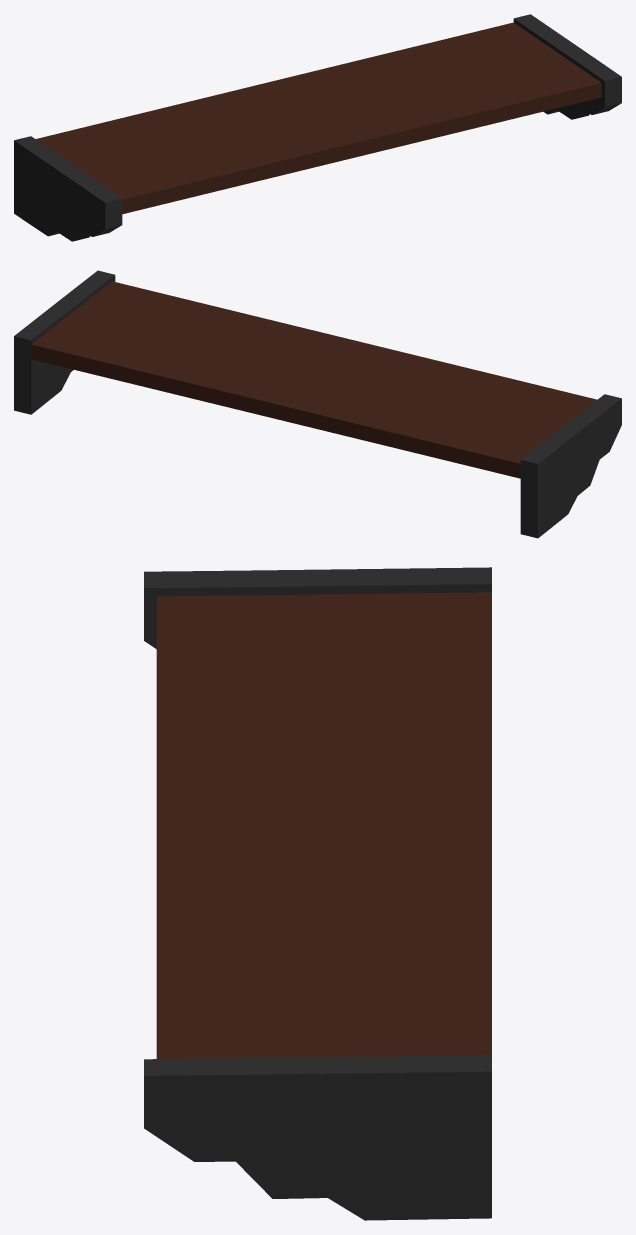
The model's file is Wall_Shelf_Big.fbx.
The picture shows the model from 3 angles, top to bottom: view 1: azimuth 30°, elevation 25°; view 2: azimuth 150°, elevation 25°; view 3: azimuth 270°, elevation 25°; orthographic projection. The views are drawn at different scales.
Parts seen in each view (by area): view 1: Wall_Shelf; view 2: Wall_Shelf; view 3: Wall_Shelf.
Part boxes in pixels (x1,y1,x2,y2): Wall_Shelf: [14, 14, 621, 241]; Wall_Shelf: [14, 270, 621, 538]; Wall_Shelf: [144, 567, 491, 1220].
Bounding box in the file's own units: 196 × 26.37 × 56.69.
